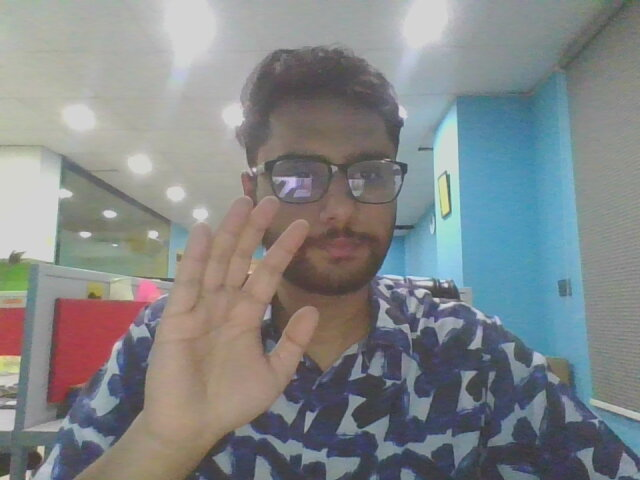hello: (127, 181, 337, 447)
